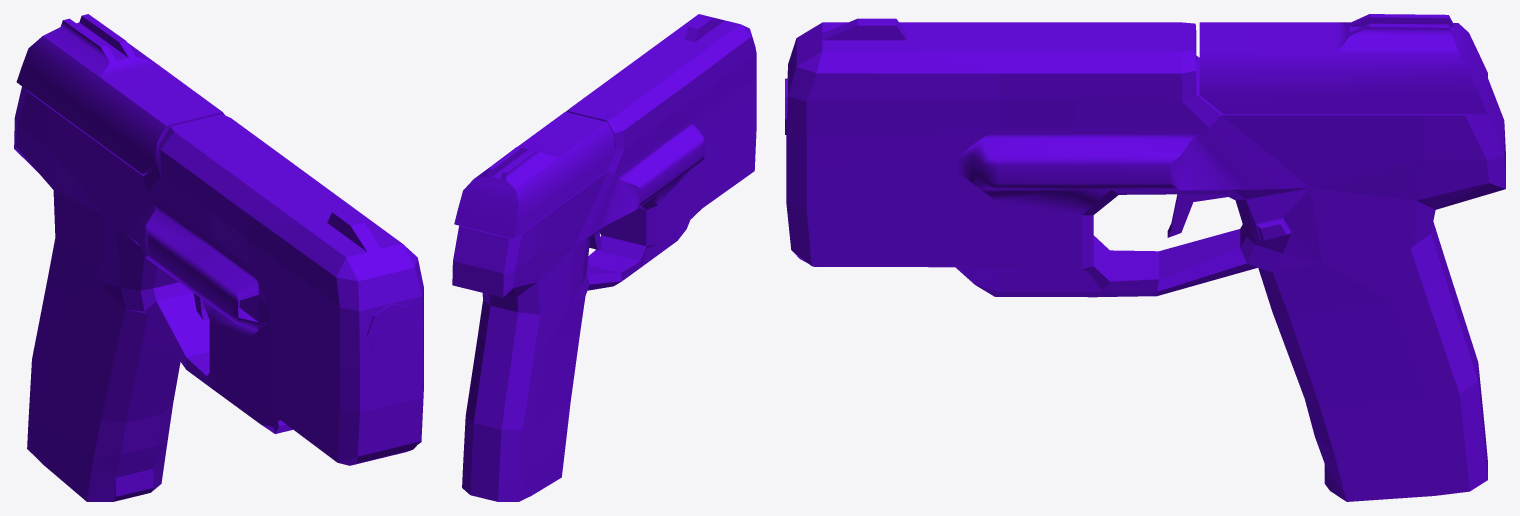
File: PistolBiofire.fbx
The picture shows the model from 3 angles, left to right: view 1: azimuth 30°, elevation 25°; view 2: azimuth 150°, elevation 25°; view 3: azimuth 270°, elevation 25°; orthographic projection. The views are drawn at different scales.
Visible parts, largest first — view 1: PistolBase, Slide, Mag, Barrel; view 2: PistolBase, Slide, Mag; view 3: PistolBase, Slide, Mag, Trigger.
Part boxes in pixels (<box>): PistolBase: <box>14,86,423,465</box>; Slide: <box>16,14,224,174</box>; Mag: <box>27,423,167,501</box>; Barrel: <box>366,303,416,355</box>; PistolBase: <box>452,14,756,481</box>; Slide: <box>454,111,615,238</box>; Mag: <box>462,440,566,501</box>; PistolBase: <box>786,18,1505,464</box>; Slide: <box>1199,14,1487,114</box>; Mag: <box>1315,434,1487,501</box>; Trigger: <box>1167,194,1227,237</box>.
Size of the model in its own units: 0.0771 by 0.2699 by 0.3813.
